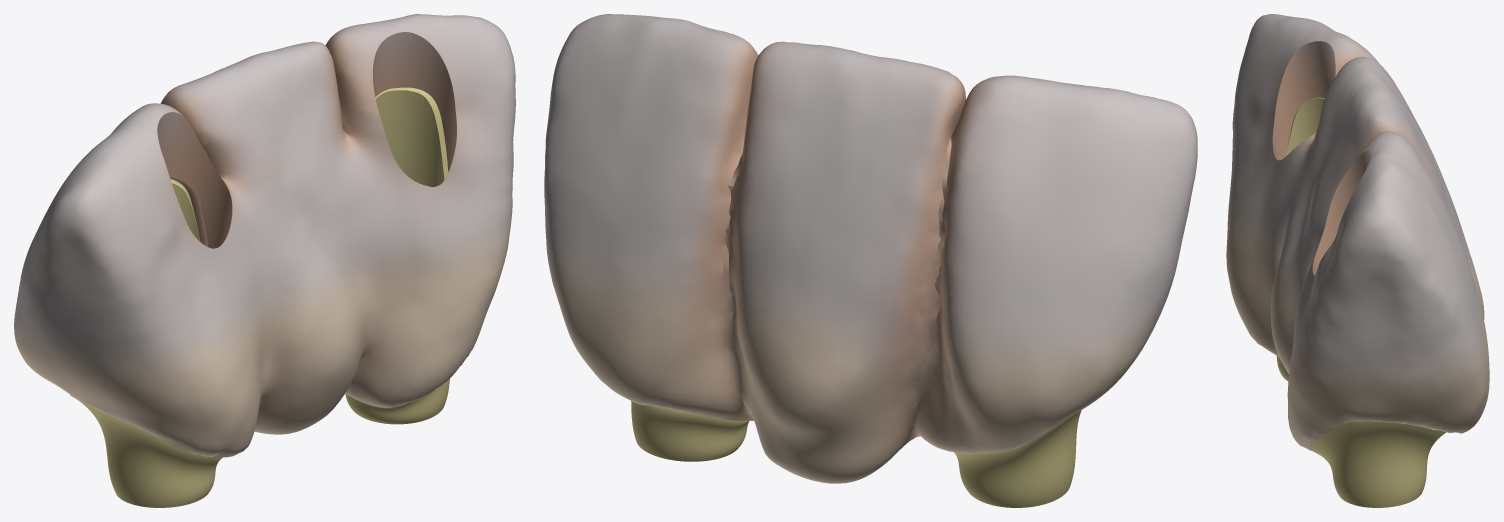
Rendered from monolithic.glb.
3 renders of one model, left to right at view 1: azimuth 30°, elevation 25°; view 2: azimuth 150°, elevation 25°; view 3: azimuth 270°, elevation 25°, orthographic. The views are drawn at different scales.
Visible parts, largest first — view 1: Crown_contour, gold_Abutment; view 2: Crown_contour, gold_Abutment; view 3: Crown_contour, gold_Abutment.
Part boxes in pixels (x1,y1,x2,y2): Crown_contour: [14, 14, 515, 457]; gold_Abutment: [70, 87, 449, 507]; Crown_contour: [544, 14, 1197, 483]; gold_Abutment: [631, 401, 1081, 507]; Crown_contour: [1226, 14, 1489, 450]; gold_Abutment: [1276, 97, 1445, 507].
Size of the model in its own units: 17.05 by 12.17 by 8.46.
Materials: 4 (1 with a texture image).
